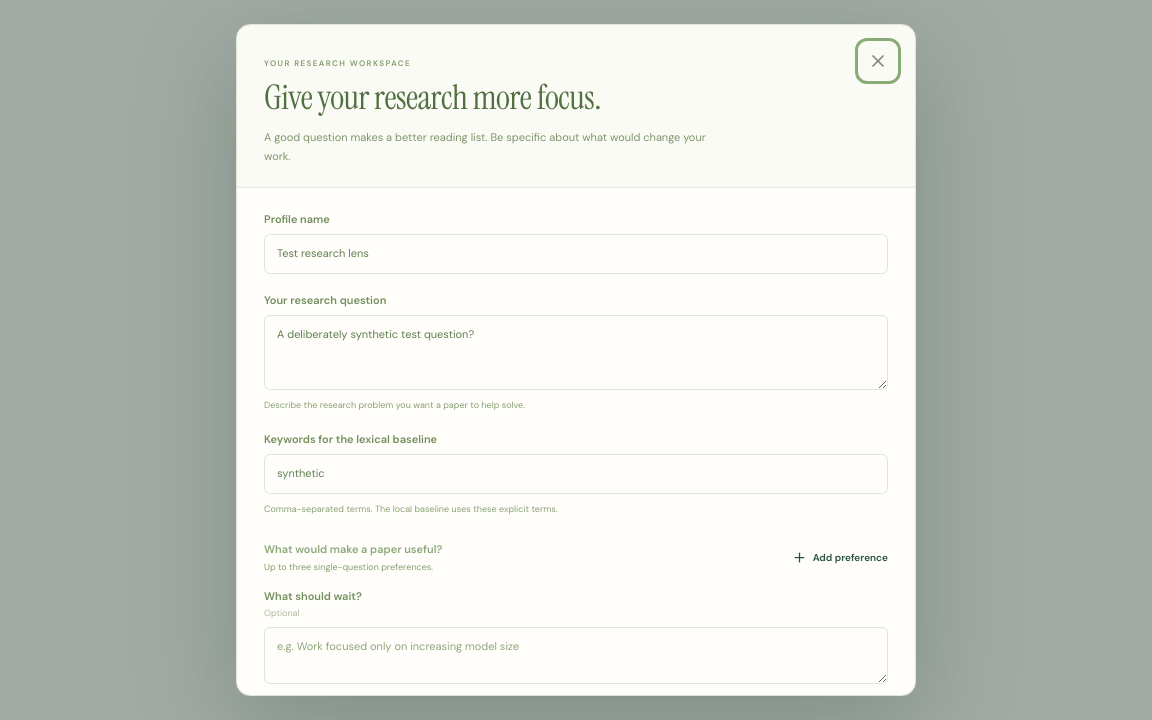
it: Versioned research profile editing › submits the expected version and retains the user edits after a conflict
Replace the text in the field labelled "Profile name" with "My revised question" at x=576, y=254, box [264,234,888,274]
(page scrolled)
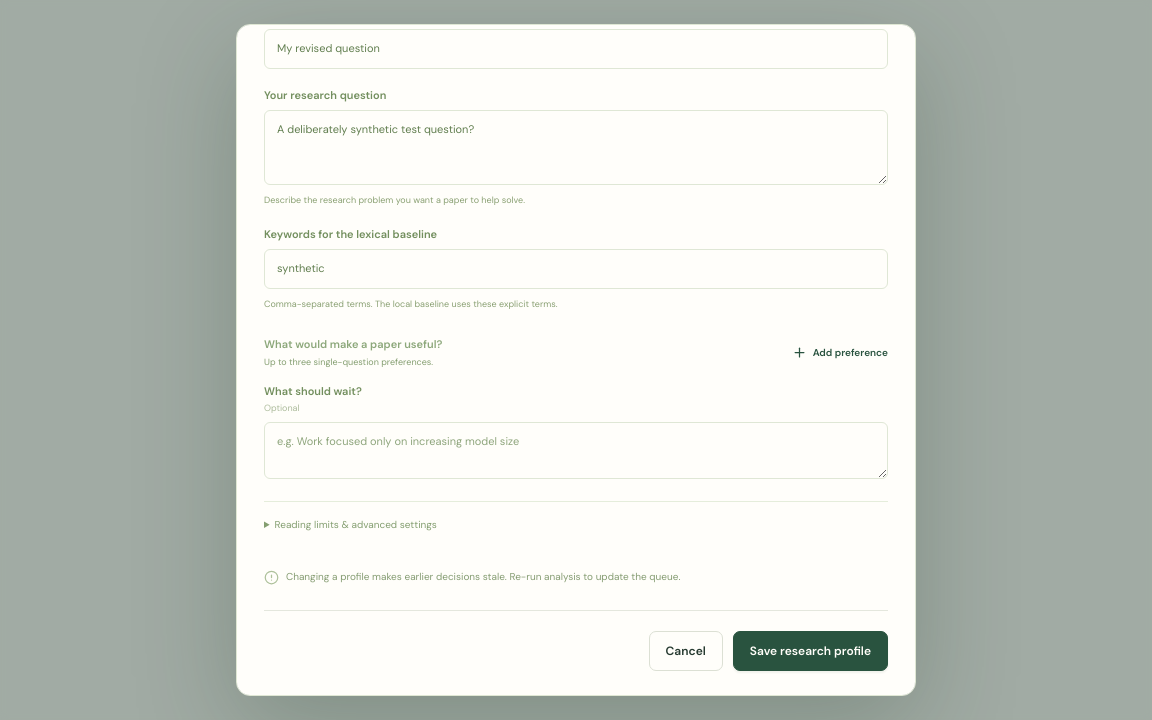
Click the button "Save research profile" at x=810, y=651, box [733,631,888,671]
(page scrolled)
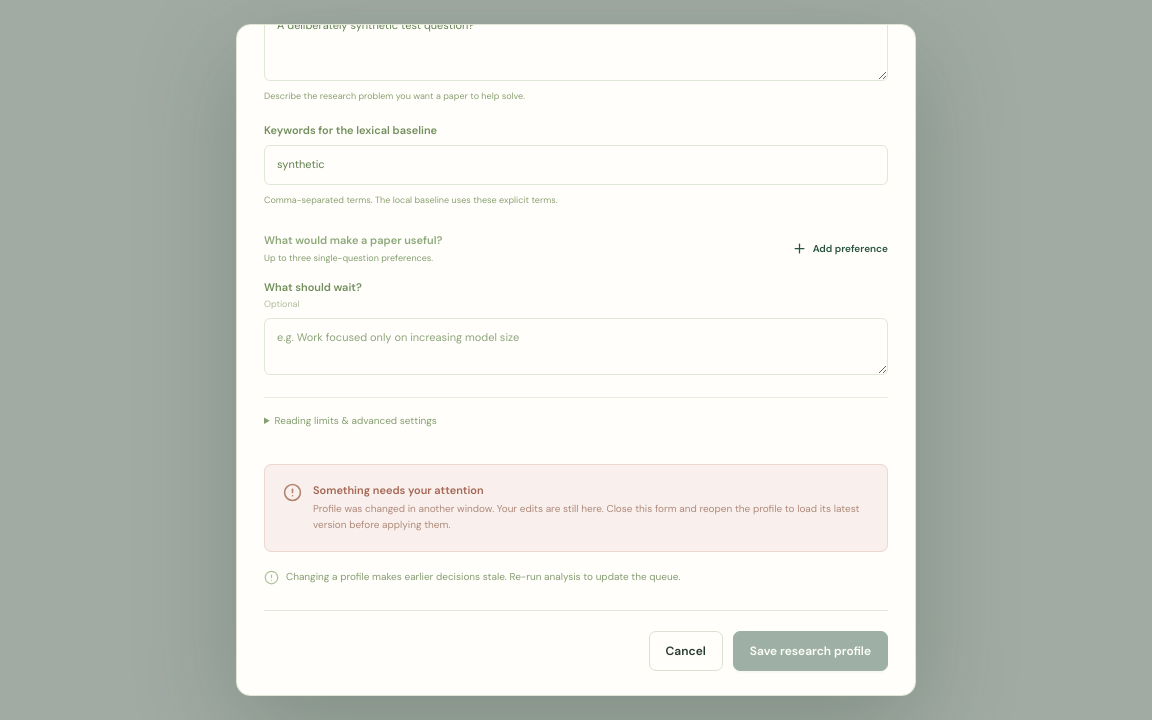
Expected: the message shows "Your edits are still here", [313,502,859,531]
Expected: the button "Save research profile" is disabled, [733,631,888,671]
